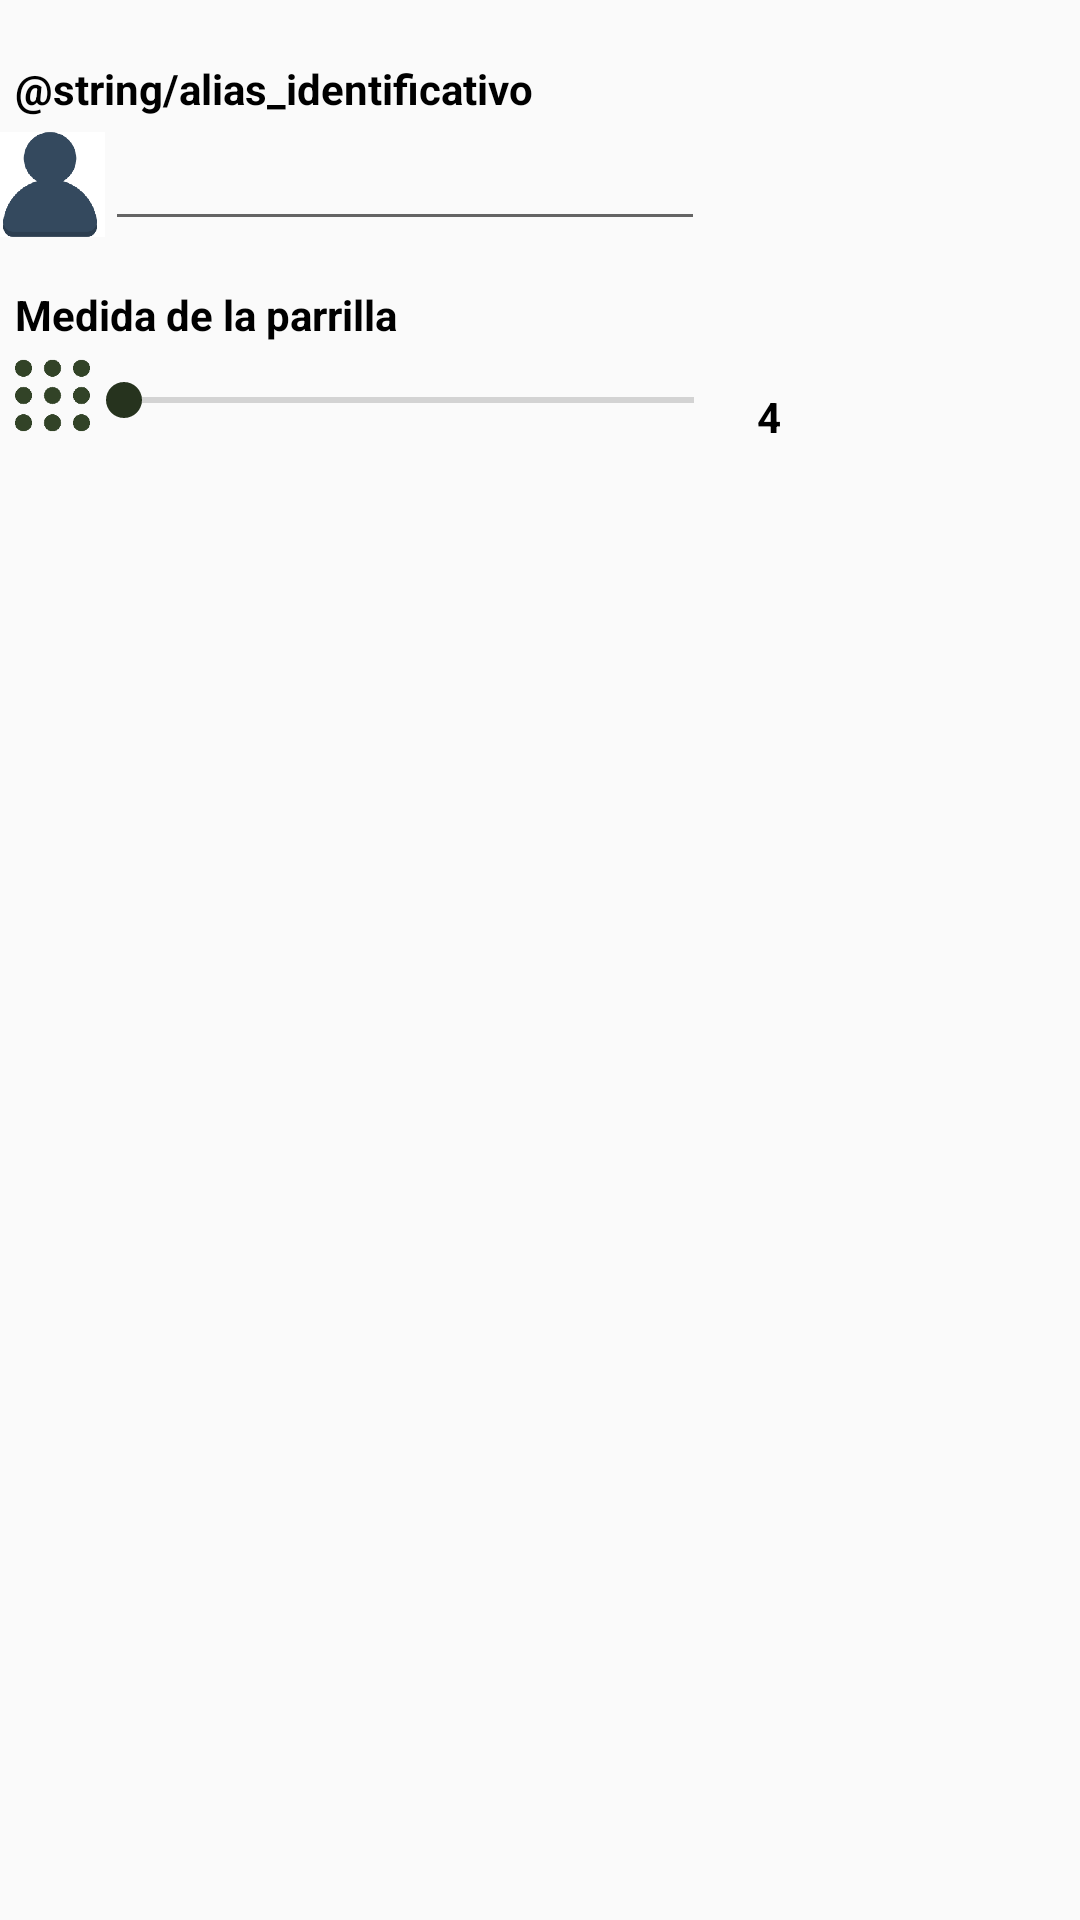

Where icons sit on this 1080 x 1920 app screen, as (x1, y1, x2, y2):
user: (3, 132, 97, 237)
